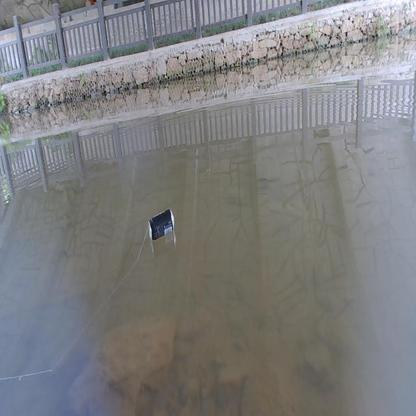can: (147, 209, 175, 240)
